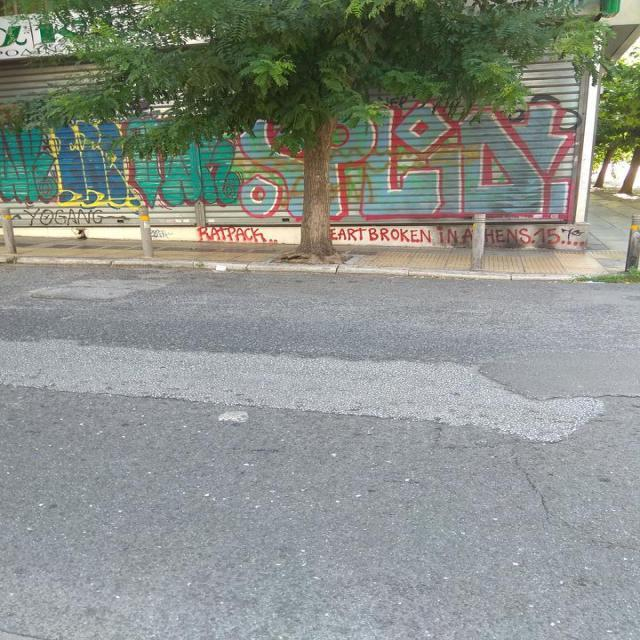nonspitting: (236, 99, 574, 220), (122, 116, 238, 208), (48, 119, 143, 209), (0, 122, 57, 202), (437, 226, 587, 247), (12, 210, 132, 224), (330, 228, 432, 242), (198, 226, 278, 242)
